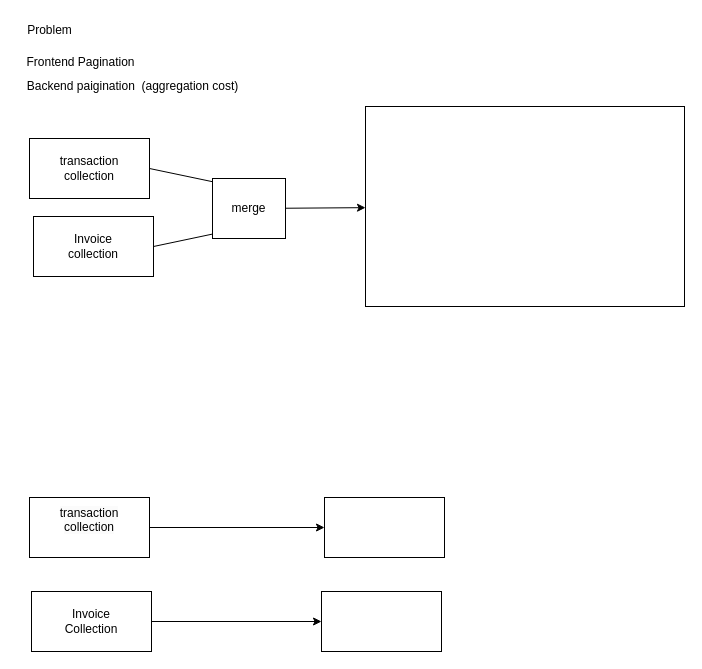
This 702x669 diagram has some shape labels left out. The box of each missing label's shape, as (x1, y1, x2, y2) in pixels:
Invoice Table: (364, 106, 684, 306)
Paid Invoice: (324, 496, 444, 558)
Unpaid paid partical: (320, 590, 442, 652)
